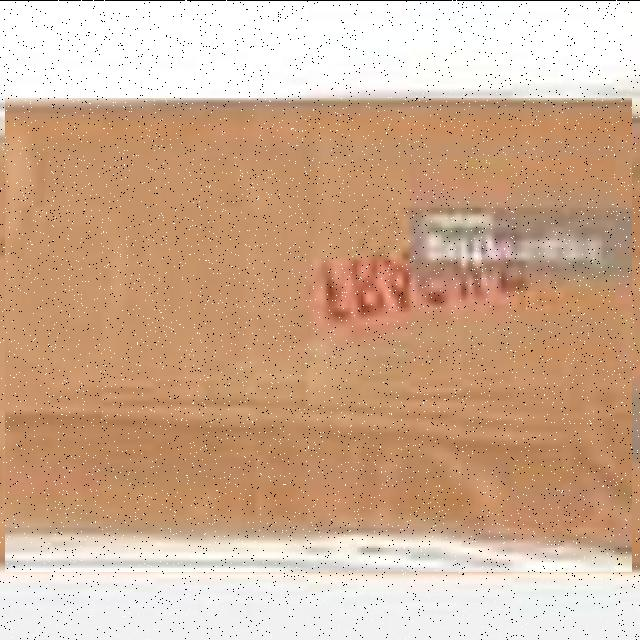defect: (5, 97, 632, 571)
